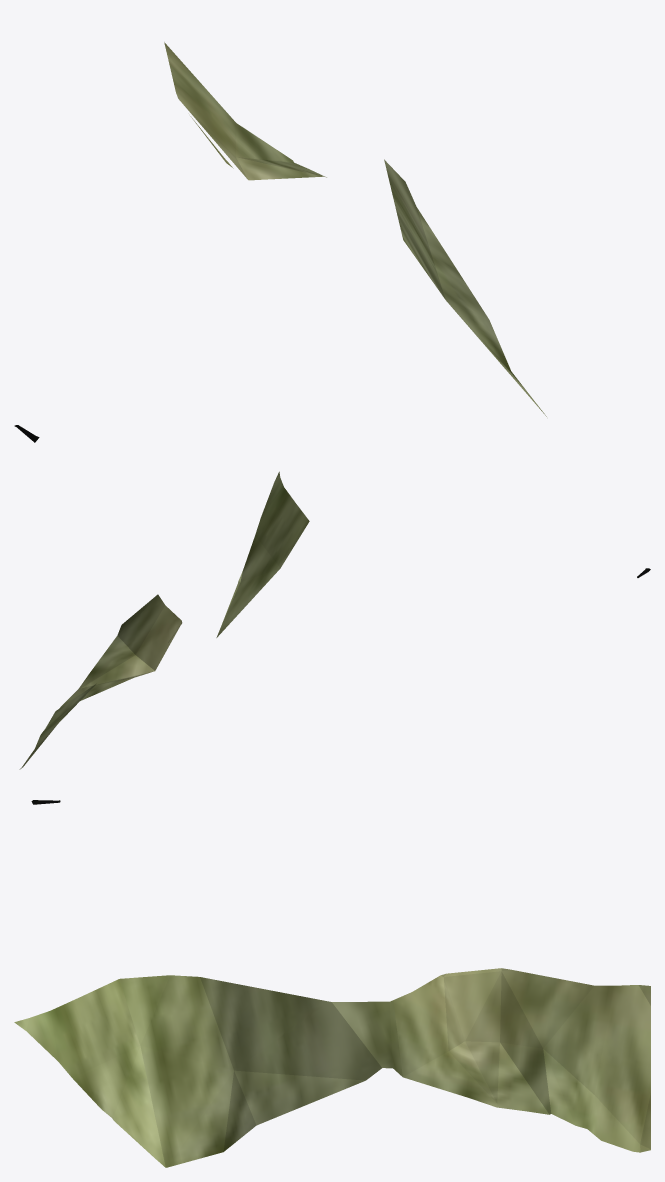
The picture shows the model from 3 angles, top to bottom: view 1: azimuth 30°, elevation 25°; view 2: azimuth 150°, elevation 25°; view 3: azimuth 270°, elevation 25°; orthographic projection. The views are drawn at different scales.
Size of the model in its own units: 1.46 by 0.4463 by 1.77.
1 material, 1 textured.
